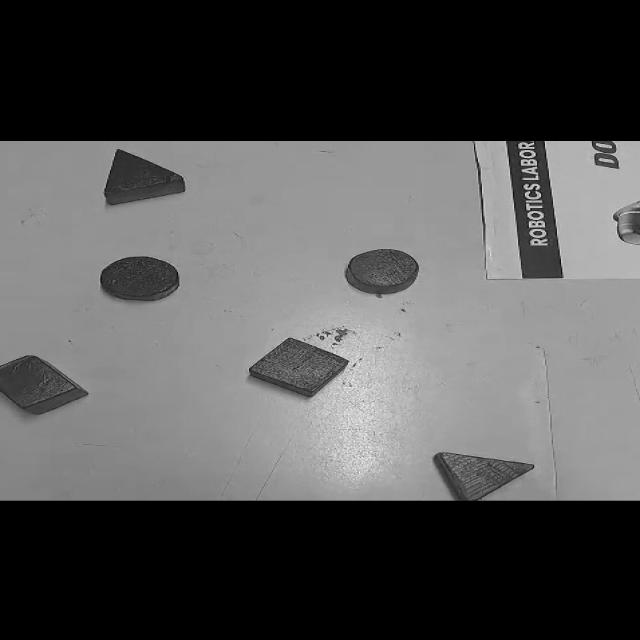bcircle: (98, 255, 180, 301)
bcube: (250, 337, 352, 397)
btriangle: (104, 148, 186, 206)
rcircle: (345, 248, 420, 294)
rcube: (0, 354, 89, 414)
rtriangle: (433, 451, 532, 500)
